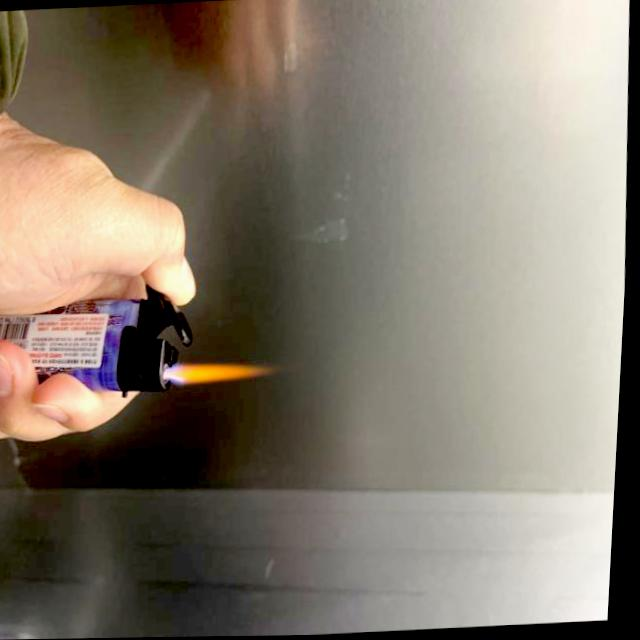helmet: (168, 358, 275, 386)
